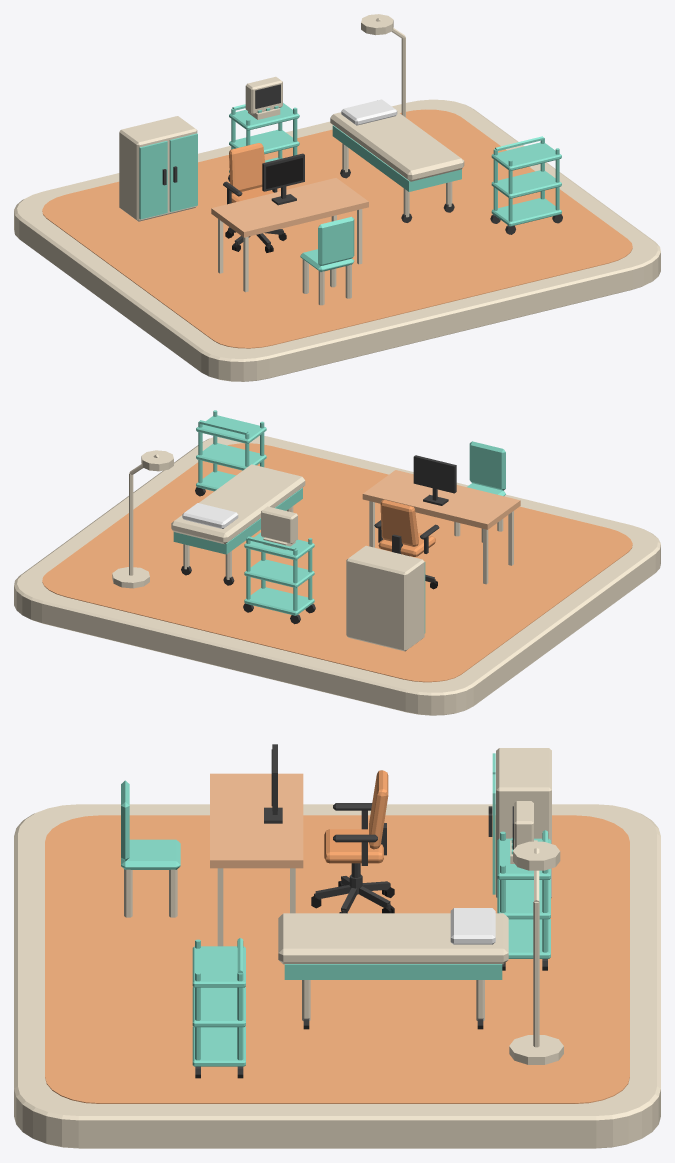
3 views of the same model, one above another, from view 1: azimuth 30°, elevation 25°; view 2: azimuth 150°, elevation 25°; view 3: azimuth 270°, elevation 25° (orthographic). The views are drawn at different scales.
Visible parts, largest first — view 1: COM-02 Floor Surface, COM-01 Rounded Base Direct, Top, Mattress, Equipment case, COM-04_Chair_blender_direct, Door, Door.001, Backrest, Frame, Tray.002, Tray (+7 smaller); view 2: COM-02 Floor Surface, COM-01 Rounded Base Direct, Equipment case, Top, Mattress, COM-04_Chair_blender_direct, Backrest, Frame, Housing, Tray.003, Tray.004, Tray.001 (+8 smaller); view 3: COM-02 Floor Surface, COM-01 Rounded Base Direct, Mattress, Top, COM-04_Chair_blender_direct, Equipment case, Base, Tray.002, Tray.001, Tray, Pillow, Seat (+10 smaller).
Boxes of the visible parts, left/top/right/bottom form: COM-02 Floor Surface: left=42, top=109, right=632, bottom=348; COM-01 Rounded Base Direct: left=14, top=99, right=660, bottom=381; Top: left=211, top=178, right=368, bottom=292; Mattress: left=330, top=111, right=464, bottom=181; Equipment case: left=119, top=116, right=197, bottom=221; COM-04_Chair_blender_direct: left=223, top=143, right=286, bottom=252; Door: left=139, top=141, right=167, bottom=219; Door.001: left=169, top=133, right=197, bottom=211; Backrest: left=318, top=216, right=354, bottom=265; Frame: left=262, top=153, right=304, bottom=205; Tray.002: left=491, top=142, right=561, bottom=171; Tray: left=491, top=198, right=561, bottom=226; COM-02 Floor Surface: left=42, top=443, right=632, bottom=682; COM-01 Rounded Base Direct: left=14, top=435, right=660, bottom=715; Equipment case: left=346, top=545, right=424, bottom=651; Top: left=362, top=470, right=520, bottom=584; Mattress: left=171, top=464, right=305, bottom=544; COM-04_Chair_blender_direct: left=374, top=499, right=439, bottom=589; Backrest: left=469, top=441, right=505, bottom=490; Frame: left=413, top=455, right=456, bottom=505; Housing: left=261, top=506, right=297, bottom=543; Tray.003: left=244, top=587, right=314, bottom=615; Tray.004: left=244, top=559, right=314, bottom=587; Tray.001: left=196, top=443, right=266, bottom=470; COM-02 Floor Surface: left=45, top=815, right=629, bottom=1103; COM-01 Rounded Base Direct: left=14, top=804, right=660, bottom=1148; Mattress: left=278, top=913, right=508, bottom=964; Top: left=210, top=773, right=303, bottom=946; COM-04_Chair_blender_direct: left=311, top=770, right=394, bottom=913; Equipment case: left=496, top=748, right=551, bottom=897; Base: left=284, top=968, right=502, bottom=979; Tray.002: left=192, top=946, right=245, bottom=987; Tray.001: left=192, top=987, right=245, bottom=1027; Tray: left=192, top=1026, right=245, bottom=1066; Pillow: left=450, top=908, right=495, bottom=944; Seat: left=121, top=839, right=180, bottom=869.
Bounding box in the file's own units: 6 × 1.96 × 5.2.
1 material, 1 textured.
